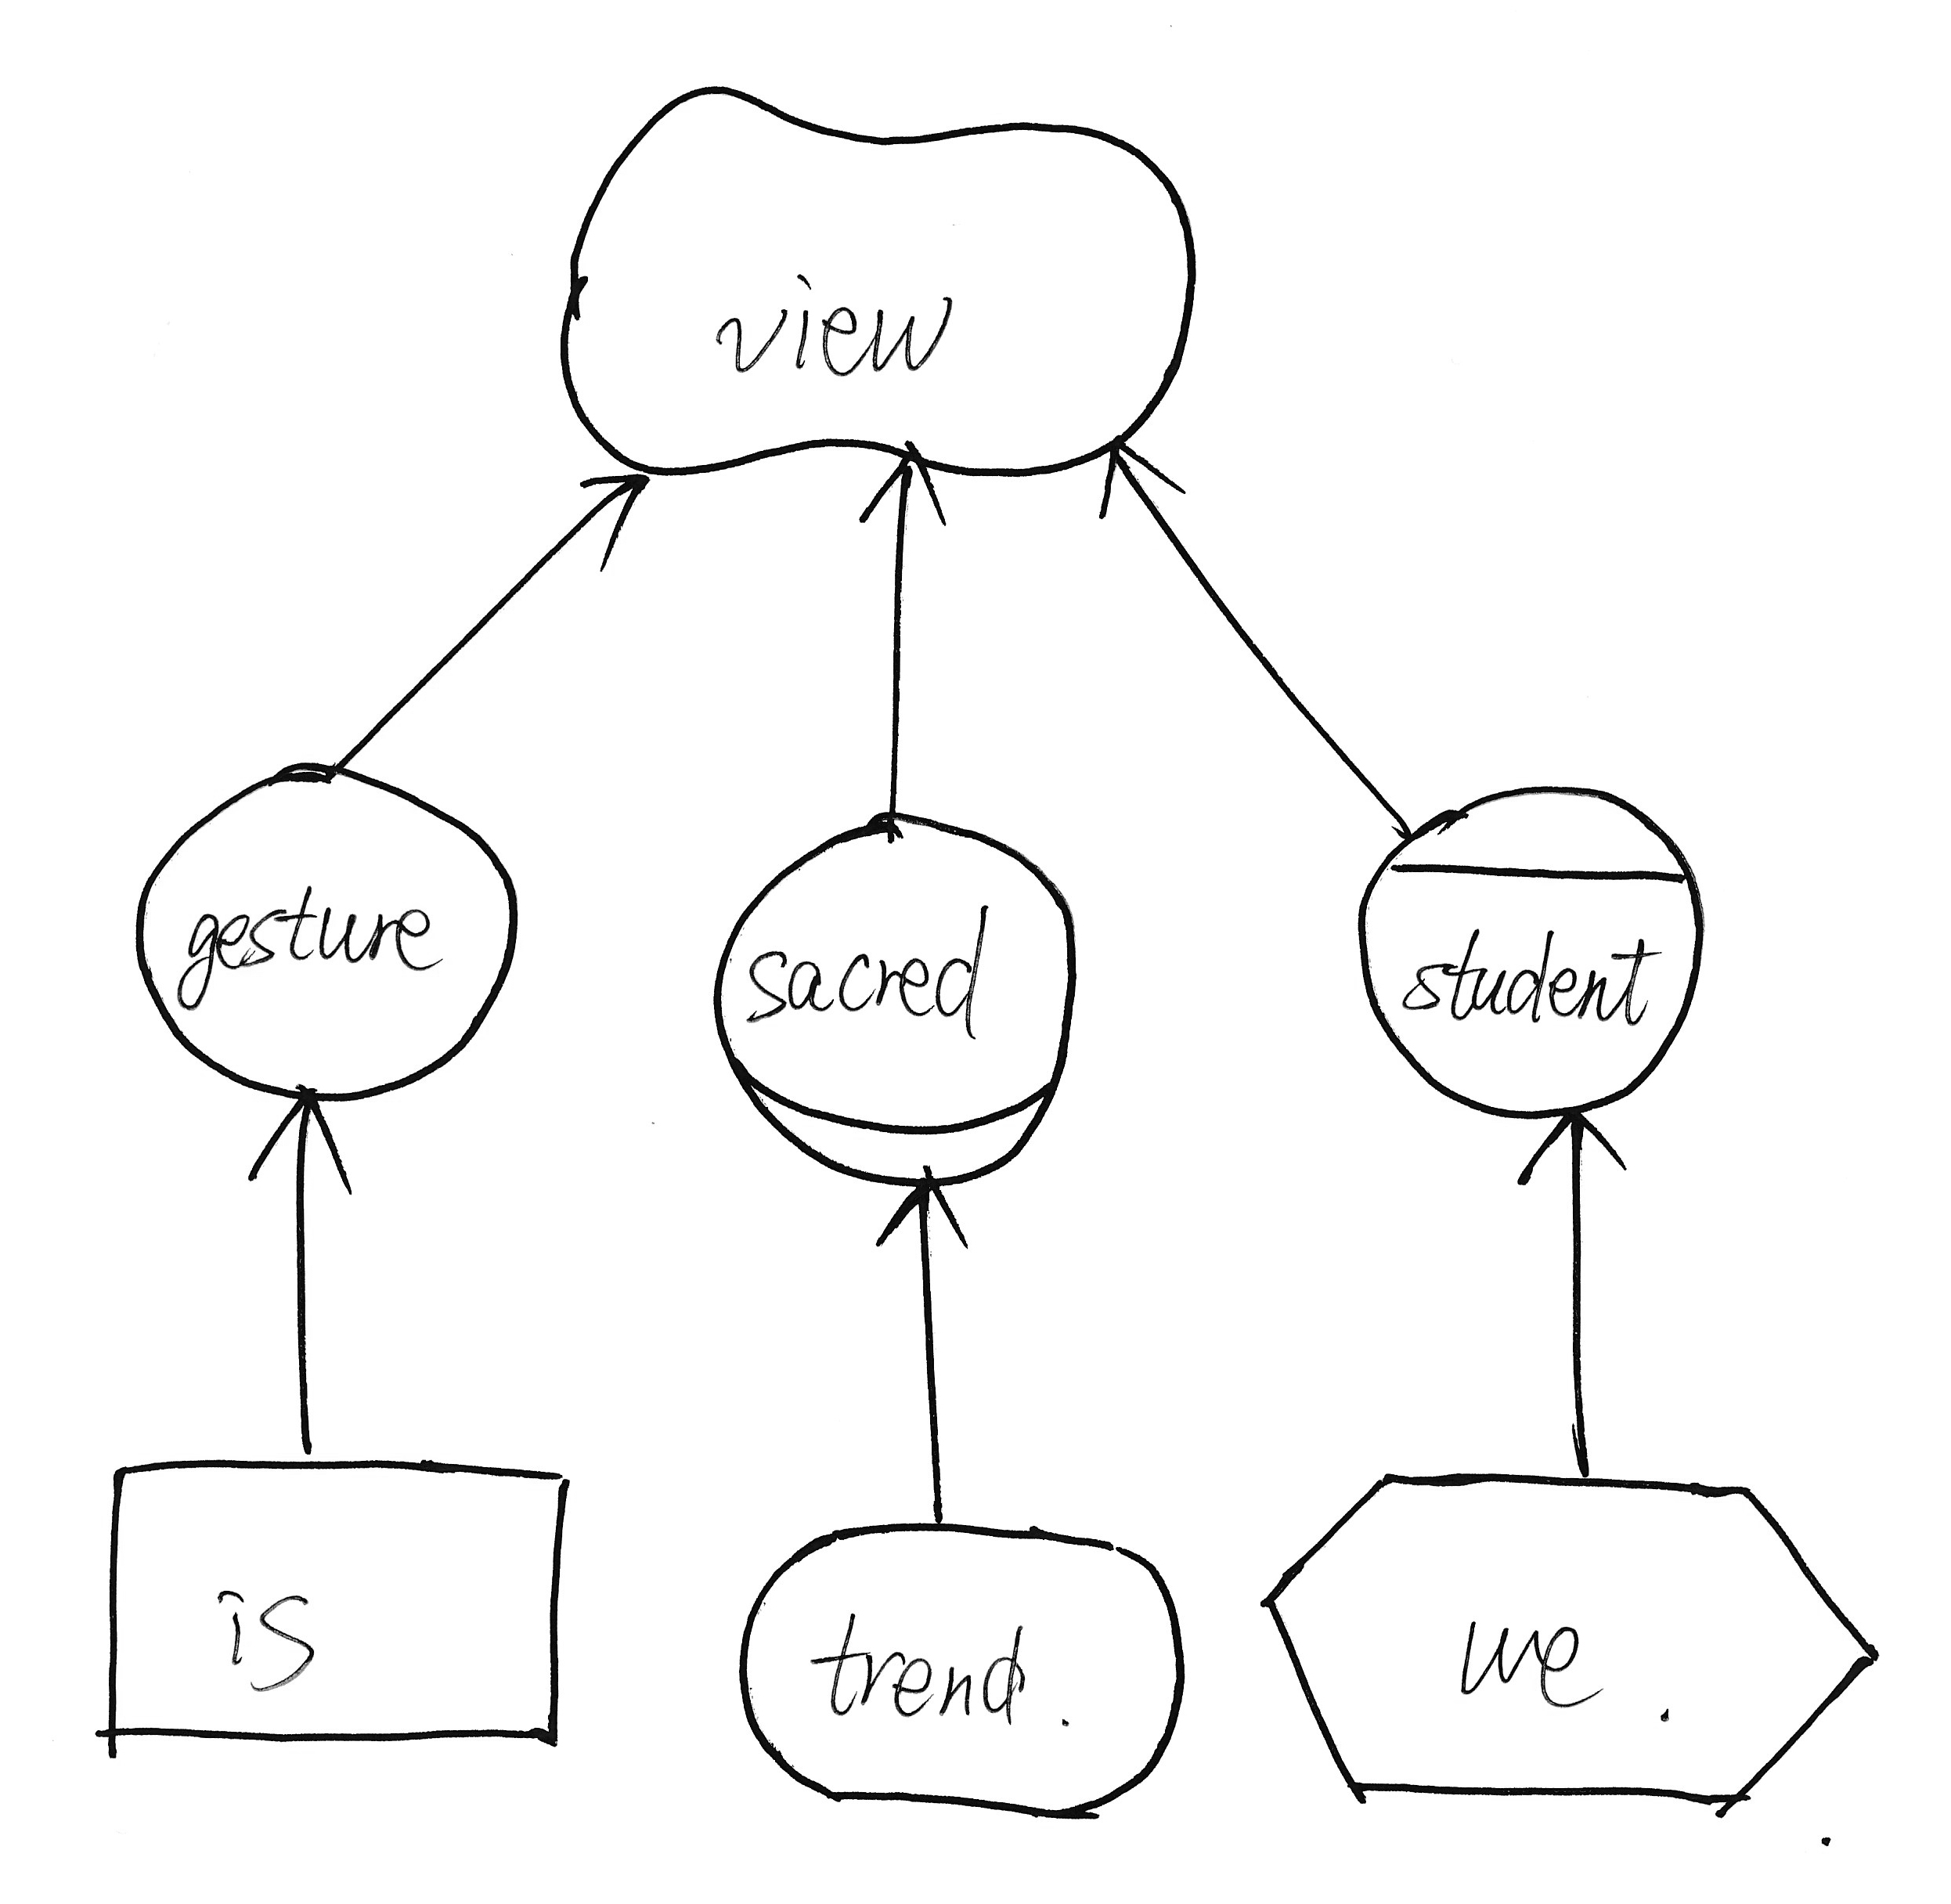actor: (115, 738, 539, 1114)
agent: (1343, 774, 1719, 1137)
arrow: (239, 1072, 368, 1203), (1074, 422, 1200, 542), (1508, 1095, 1641, 1207), (847, 432, 961, 553), (858, 1159, 987, 1261), (561, 453, 661, 582)
goal: (720, 1496, 1210, 1834)
quality: (539, 66, 1213, 490)
resource: (84, 1433, 591, 1768)
role: (692, 795, 1098, 1212)
task: (1243, 1456, 1899, 1822)
